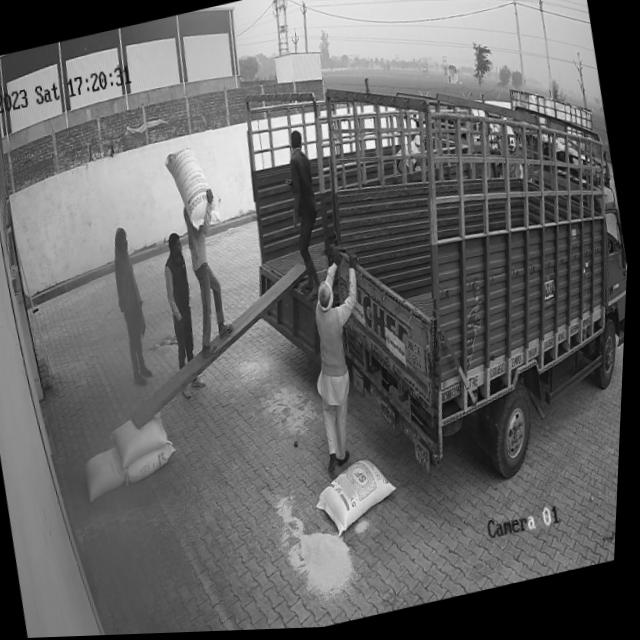sack: (314, 456, 408, 543), (162, 144, 221, 238), (112, 413, 175, 470), (84, 447, 133, 505), (124, 443, 183, 485)
